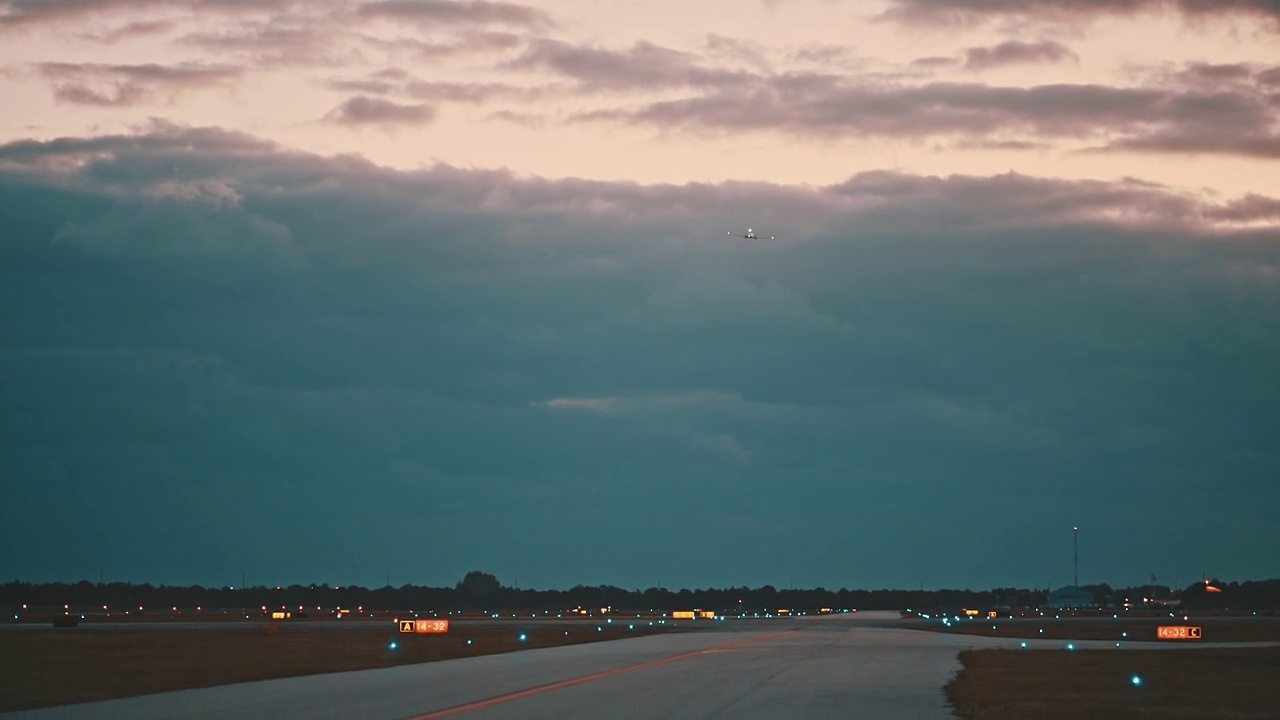plane: (726, 228, 774, 239)
